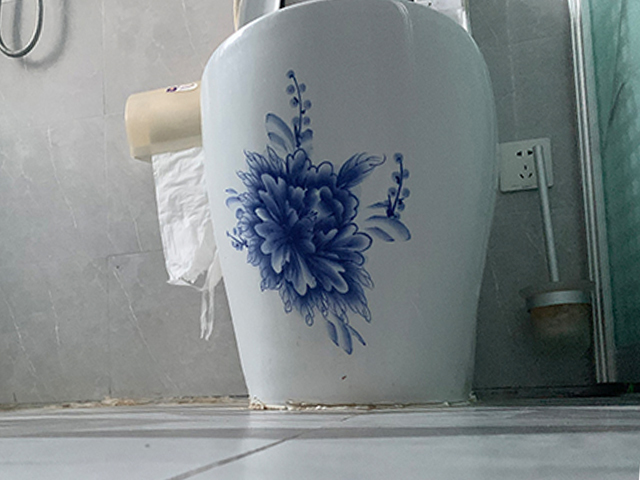closestool: (195, 1, 493, 409)
